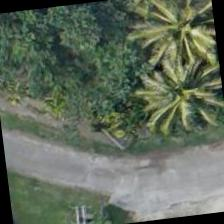Kelapa_Sawit: (129, 39, 223, 141), (143, 0, 218, 67)
